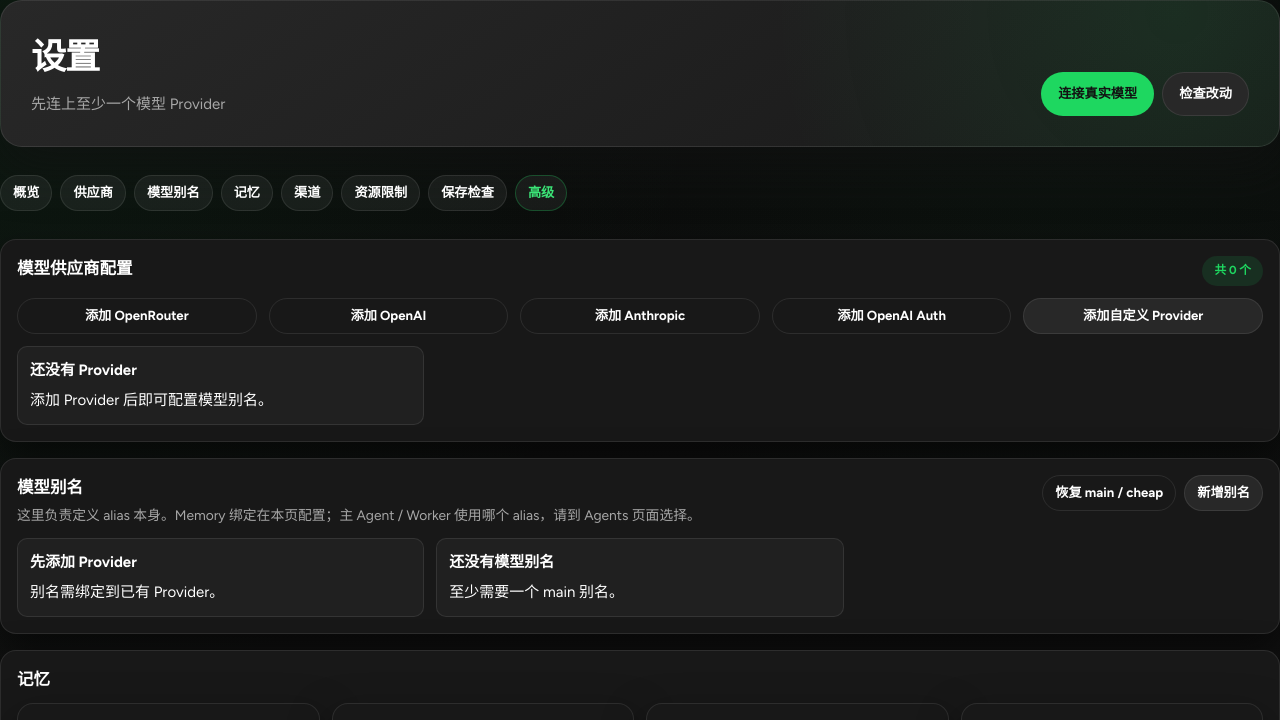
Test: SettingsPage › 支持从空状态添加 Provider，并自动生成 main / cheap 别名
The width and height of the screenshot is (1280, 720).
Check: the text "还没有 Provider" is shown, box [30, 361, 137, 379]
Check: the text "还没有模型别名" is shown, box [449, 553, 554, 571]
Click the button "添加 OpenAI".
click(388, 316)  # box [269, 298, 508, 334]
(page scrolled)
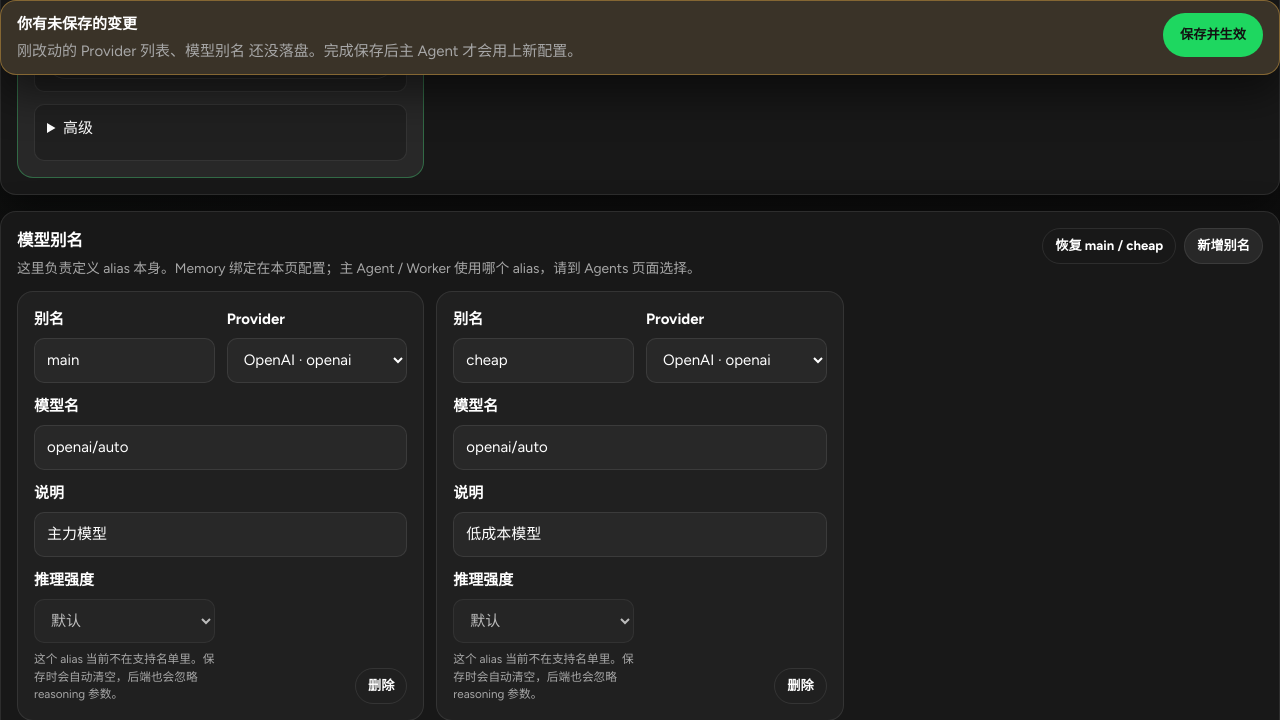
Check: the 1st field showing "main" is shown, box [34, 338, 215, 383]
Check: the 2nd field showing "cheap" is shown, box [453, 338, 634, 383]
